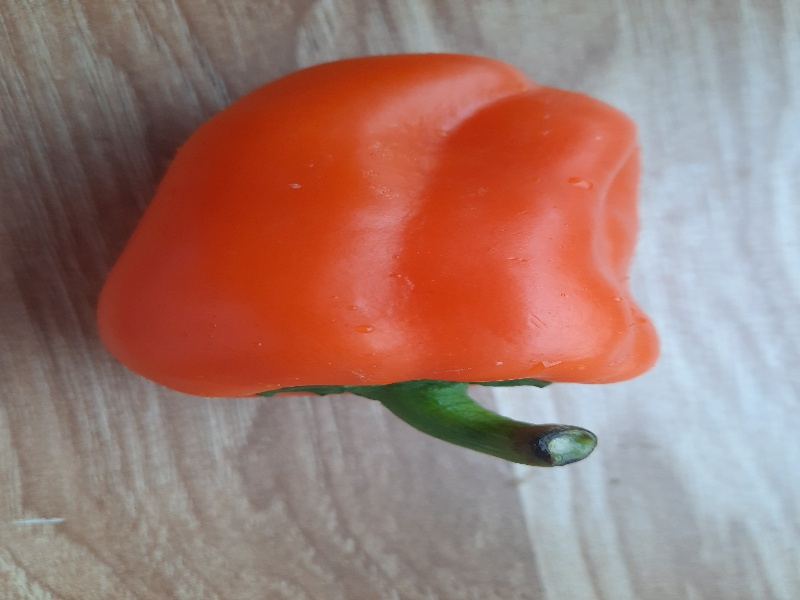vege: (87, 48, 667, 485)
